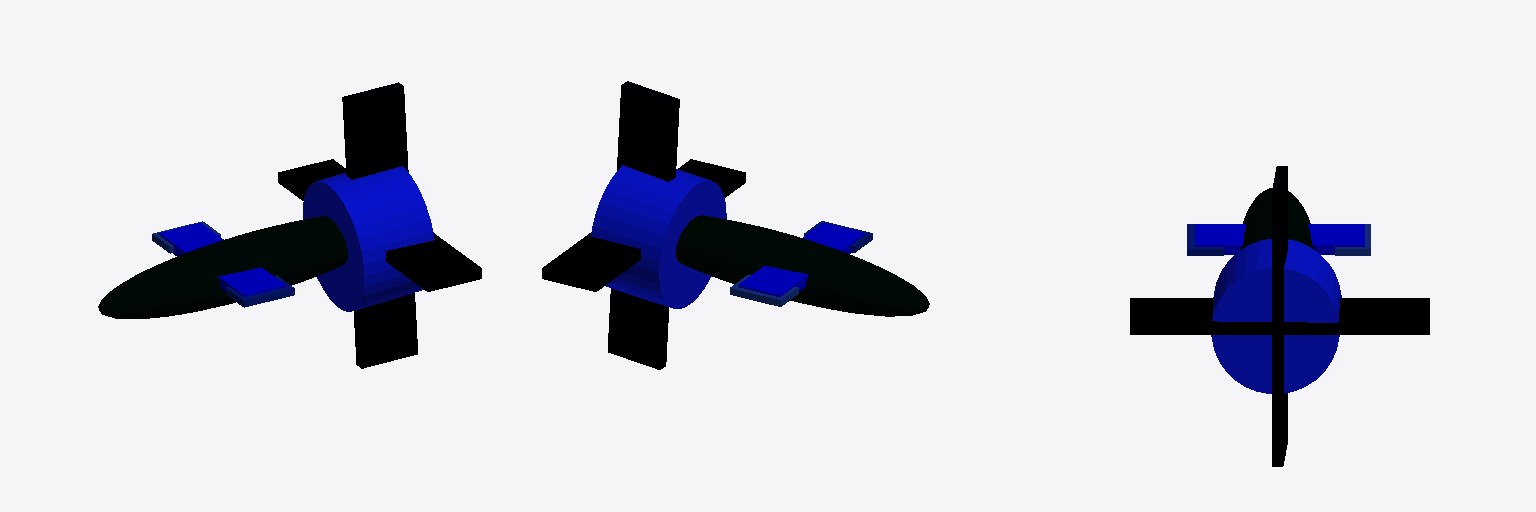
File: rocket.obj
3 renders of one model, left to right at view 1: azimuth 30°, elevation 25°; view 2: azimuth 150°, elevation 25°; view 3: azimuth 270°, elevation 25°, orthographic.
Visible parts, largest first — view 1: Sphere.005, Cylinder, Cube.004_Cube.005, Cube_Cube.001, Cube.001_Cube.002, Cube.003_Cube.004; view 2: Sphere.005, Cylinder, Cube.004_Cube.005, Cube_Cube.001, Cube.001_Cube.002, Cube.002_Cube.003; view 3: Cylinder, Cube_Cube.001, Cube.004_Cube.005, Cube.001_Cube.002, Sphere.005.
Part boxes in pixels (left/top/right/bottom): Sphere.005: left=98, top=216, right=347, bottom=318; Cylinder: left=303, top=166, right=434, bottom=311; Cube.004_Cube.005: left=342, top=82, right=417, bottom=368; Cube_Cube.001: left=278, top=159, right=481, bottom=291; Cube.001_Cube.002: left=159, top=223, right=285, bottom=296; Cube.003_Cube.004: left=226, top=275, right=294, bottom=307; Sphere.005: left=676, top=215, right=929, bottom=316; Cylinder: left=591, top=165, right=726, bottom=308; Cube.004_Cube.005: left=608, top=81, right=679, bottom=369; Cube_Cube.001: left=542, top=159, right=745, bottom=291; Cube.001_Cube.002: left=738, top=223, right=864, bottom=296; Cube.002_Cube.003: left=730, top=275, right=798, bottom=306; Cylinder: left=1211, top=239, right=1341, bottom=393; Cube_Cube.001: left=1130, top=298, right=1429, bottom=334; Cube.004_Cube.005: left=1272, top=166, right=1287, bottom=466; Cube.001_Cube.002: left=1195, top=224, right=1364, bottom=254; Sphere.005: left=1240, top=188, right=1315, bottom=250.
Bounding box in the file's own units: 11.7 × 9.64 × 9.54.